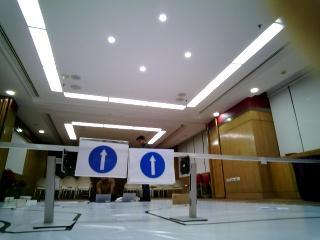straight: (126, 148, 180, 186), (78, 139, 127, 178)
